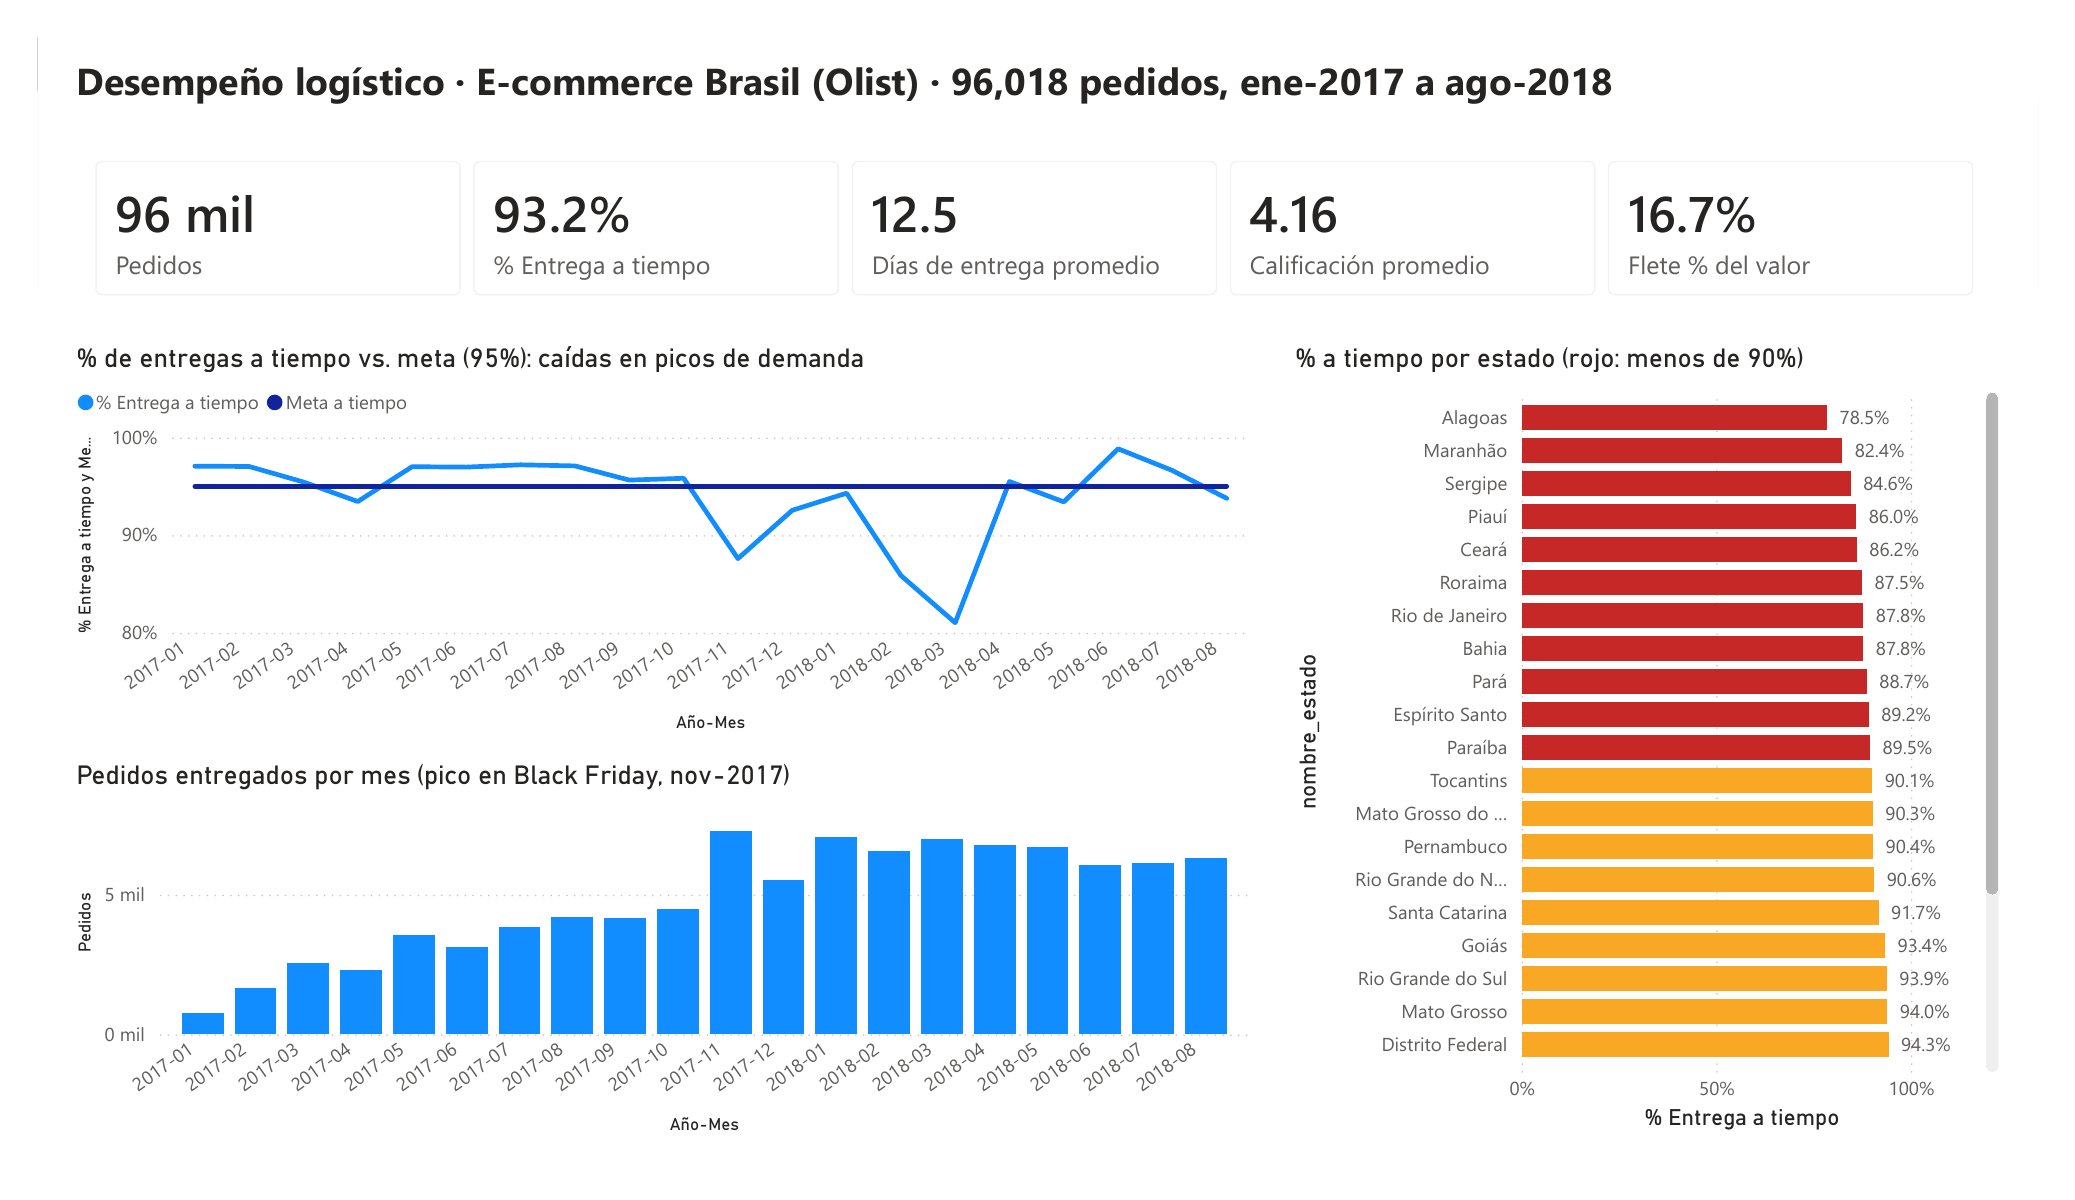

Layout of this report page (visuals, bound fields, positions):
{"tool":"powerbi","page":{"name":"Resumen ejecutivo","canvas":[1280,720],"ordinal":0},"visuals":[{"type":"cardVisual","fields":{"Data":["_Medidas.Pedidos","_Medidas.% Entrega a tiempo","_Medidas.Días de entrega promedio","_Medidas.Calificación promedio","_Medidas.Flete % del valor"]},"box":[20,62,1240,120],"z":0},{"type":"lineChart","title":"% de entregas a tiempo vs. meta (95%): caídas en picos de demanda","fields":{"Y":["_Medidas.% Entrega a tiempo","_Medidas.Meta a tiempo"],"Category":["Calendario.Año-Mes"]},"box":[20,195,760,255],"z":1},{"type":"clusteredBarChart","title":"% a tiempo por estado (rojo: menos de 90%)","fields":{"Y":["_Medidas.% Entrega a tiempo"],"Category":["dim_estados.nombre_estado"]},"box":[800,195,460,510],"z":2},{"type":"clusteredColumnChart","title":"Pedidos entregados por mes (pico en Black Friday, nov-2017)","fields":{"Y":["_Medidas.Pedidos"],"Category":["Calendario.Año-Mes"]},"box":[20,462,760,245],"z":3},{"type":"textbox","box":[20,6,1240,50],"z":4}]}

Visuals, with their boxes on the page's 1280x720 design canvas (x1, y1, x2, y2). These are canvas units, not pixel positions in the 2075x1200 screenshot, which may show the page scaled, cropped or inside an application window:
cardVisual - _Medidas.Pedidos x _Medidas.% Entrega a tiempo: detection(20, 62, 1260, 182)
"% de entregas a tiempo vs. meta (95%): caídas en picos de demanda" lineChart: detection(20, 195, 780, 450)
"% a tiempo por estado (rojo: menos de 90%)" clusteredBarChart: detection(800, 195, 1260, 705)
"Pedidos entregados por mes (pico en Black Friday, nov-2017)" clusteredColumnChart: detection(20, 462, 780, 707)
textbox: detection(20, 6, 1260, 56)
